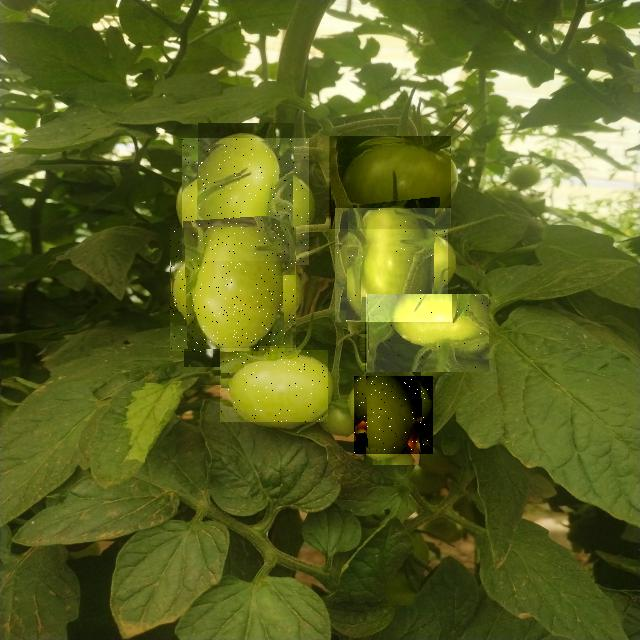Unripe Tomato: (182, 138, 309, 265), (170, 228, 296, 354), (335, 208, 448, 322), (326, 136, 451, 229), (362, 294, 488, 372), (220, 350, 328, 422), (354, 376, 433, 454)
